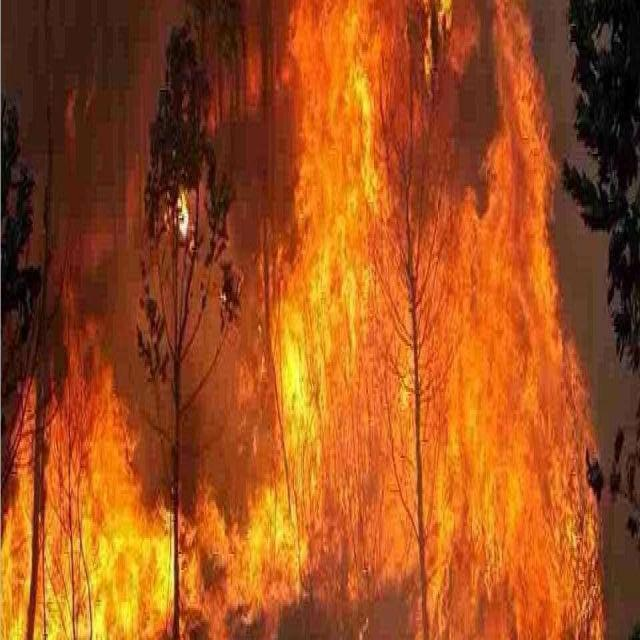fire: (6, 2, 608, 631)
